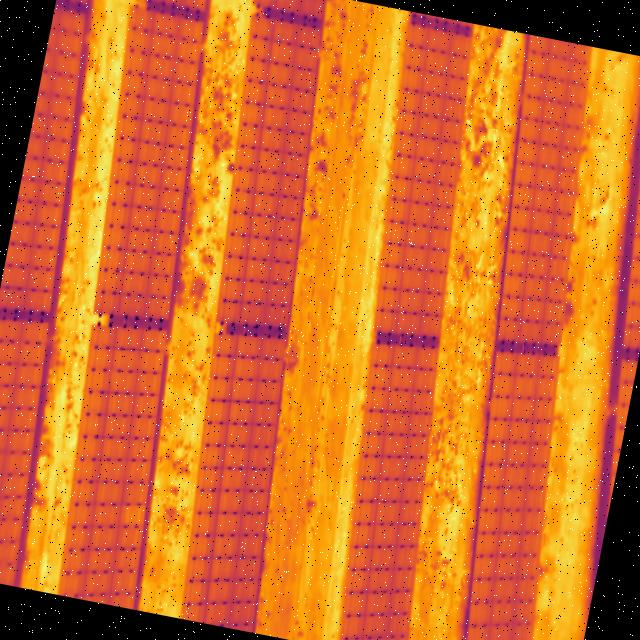Hotspot: (120, 501, 146, 528)
